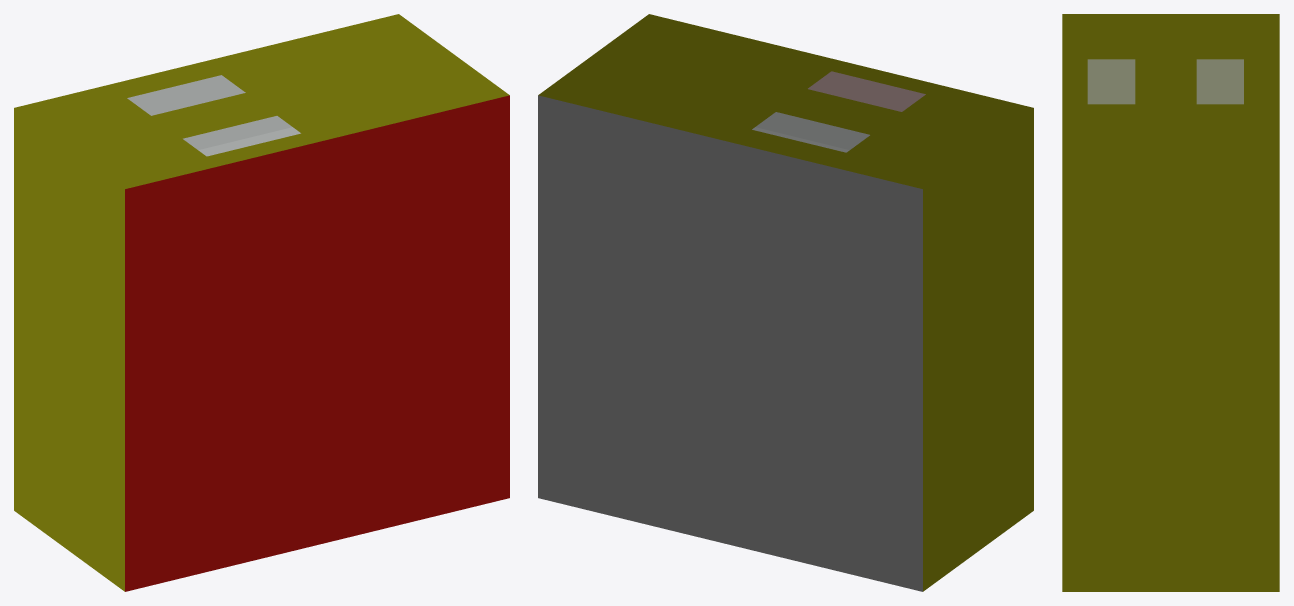
Rendered from idf.obj.
3 views of the same model, side by side, from view 1: azimuth 30°, elevation 25°; view 2: azimuth 150°, elevation 25°; view 3: azimuth 270°, elevation 25° (orthographic). The views are drawn at different scales.
Size of the model in its own units: 12.19 by 12.19 by 6.1.
